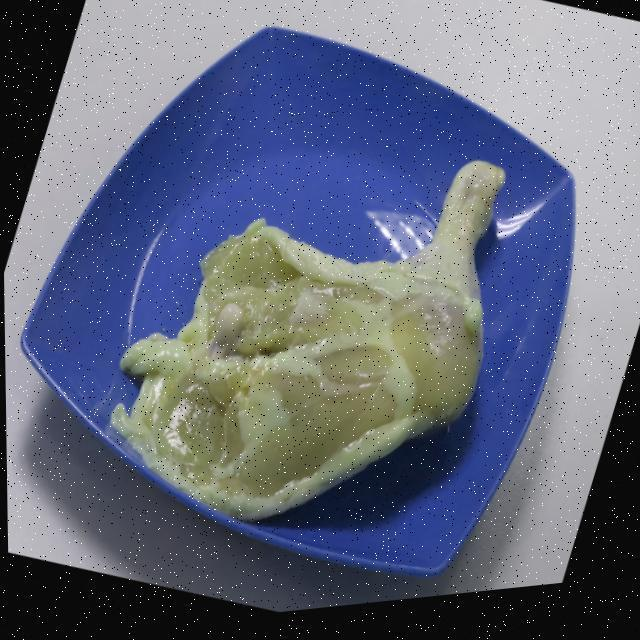quater: (104, 163, 514, 500)
